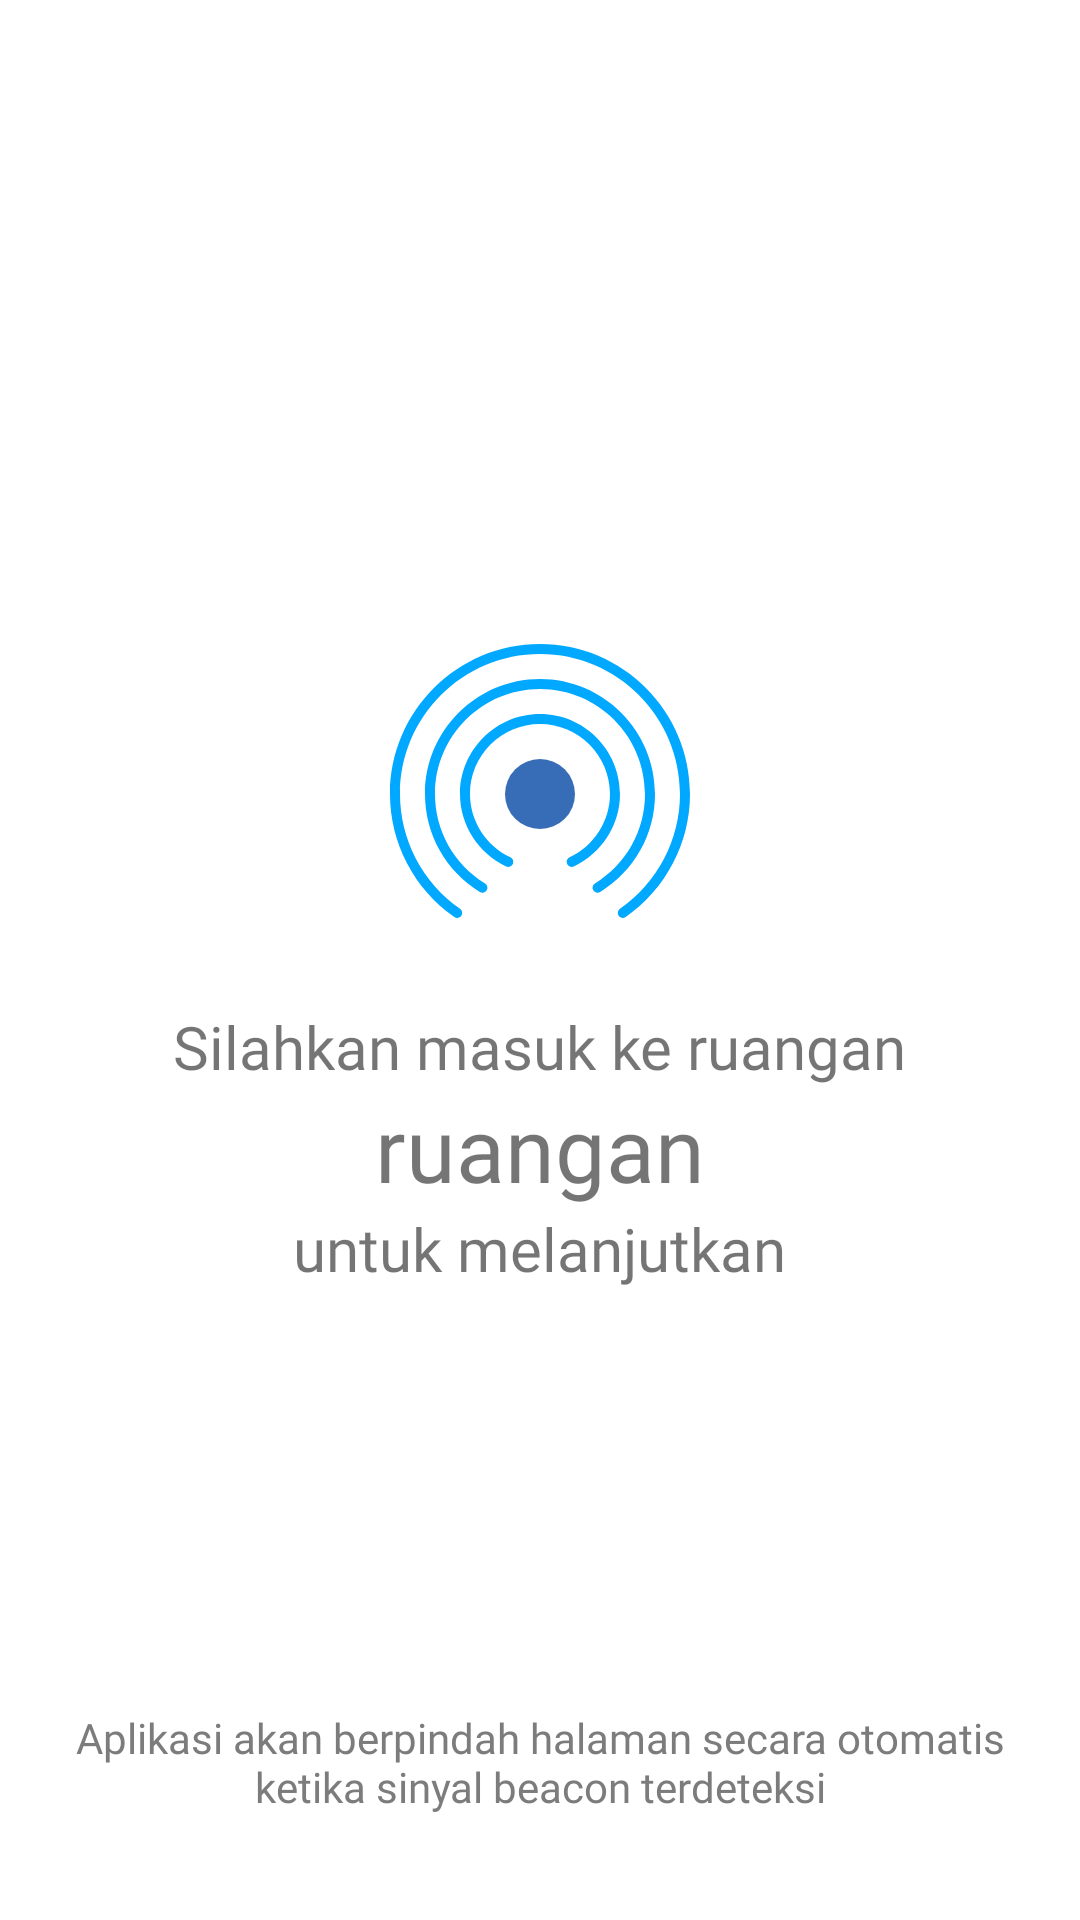

Screen size 1080x1920. Icon name, then its box in pixels as (x1, y1, x2, y2):
signal: (390, 644, 690, 918)
